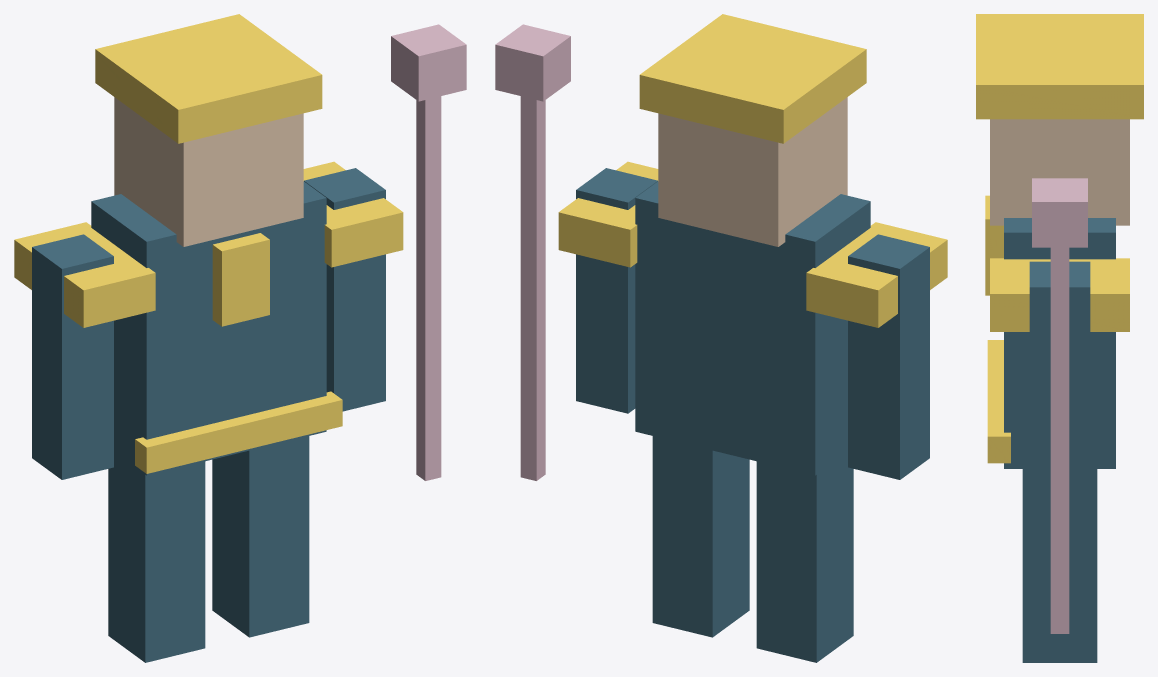
File: 03_tamsin_signalborn_navigator_under_coral.glb
The picture shows the model from 3 angles, left to right: view 1: azimuth 30°, elevation 25°; view 2: azimuth 150°, elevation 25°; view 3: azimuth 270°, elevation 25°; orthographic projection.
Visible parts, largest first — view 1: Tamsin Signalborn, Navigator under Coral; view 2: Tamsin Signalborn, Navigator under Coral; view 3: Tamsin Signalborn, Navigator under Coral.
Boxes of the visible parts, x1=… form: Tamsin Signalborn, Navigator under Coral: x1=14, y1=14, x2=466, y2=662; Tamsin Signalborn, Navigator under Coral: x1=495, y1=14, x2=947, y2=662; Tamsin Signalborn, Navigator under Coral: x1=976, y1=14, x2=1143, y2=662.
Size of the model in its own units: 1.11 by 1.48 by 0.3926.
